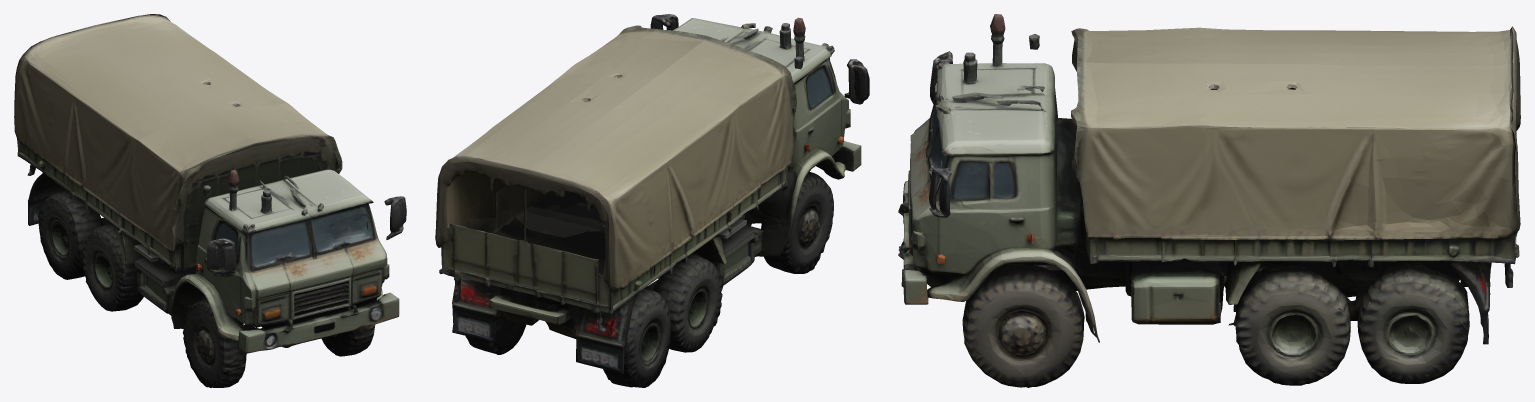
File: wreck-truck-mesh.glb
The picture shows the model from 3 angles, left to right: view 1: azimuth 30°, elevation 25°; view 2: azimuth 150°, elevation 25°; view 3: azimuth 270°, elevation 25°; orthographic projection. The views are drawn at different scales.
Parts seen in each view (by area): view 1: world; view 2: world; view 3: world.
Part boxes in pixels (box(x1,y1,x2,y2)): world: box(14, 14, 406, 387); world: box(435, 14, 869, 387); world: box(898, 14, 1520, 387).
Bounding box in the file's own units: 0.494 × 0.5124 × 0.9985.
Materials: 1 (1 with a texture image).
